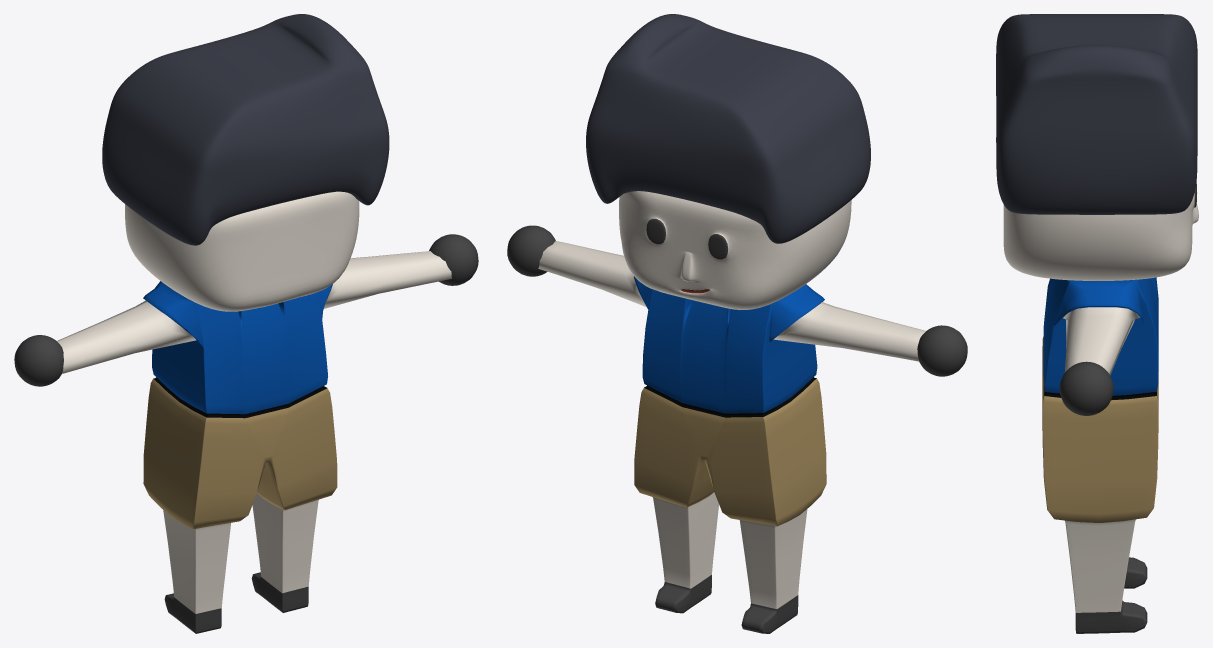
The model's file is Player.fbx.
The picture shows the model from 3 angles, left to right: view 1: azimuth 30°, elevation 25°; view 2: azimuth 150°, elevation 25°; view 3: azimuth 270°, elevation 25°; orthographic projection. The views are drawn at different scales.
Visible parts, largest first — view 1: pCube7; view 2: pCube7; view 3: pCube7.
Part boxes in pixels (box(x1,y1,x2,y2)): pCube7: box(14, 14, 478, 633); pCube7: box(507, 14, 967, 633); pCube7: box(996, 14, 1198, 633).
Size of the model in its own units: 3.14 by 3.74 by 1.15.
